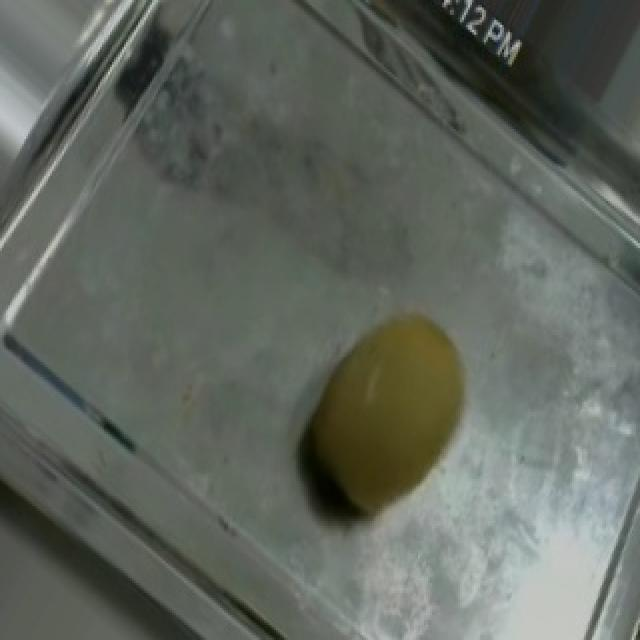Fruit: (264, 286, 506, 544)
